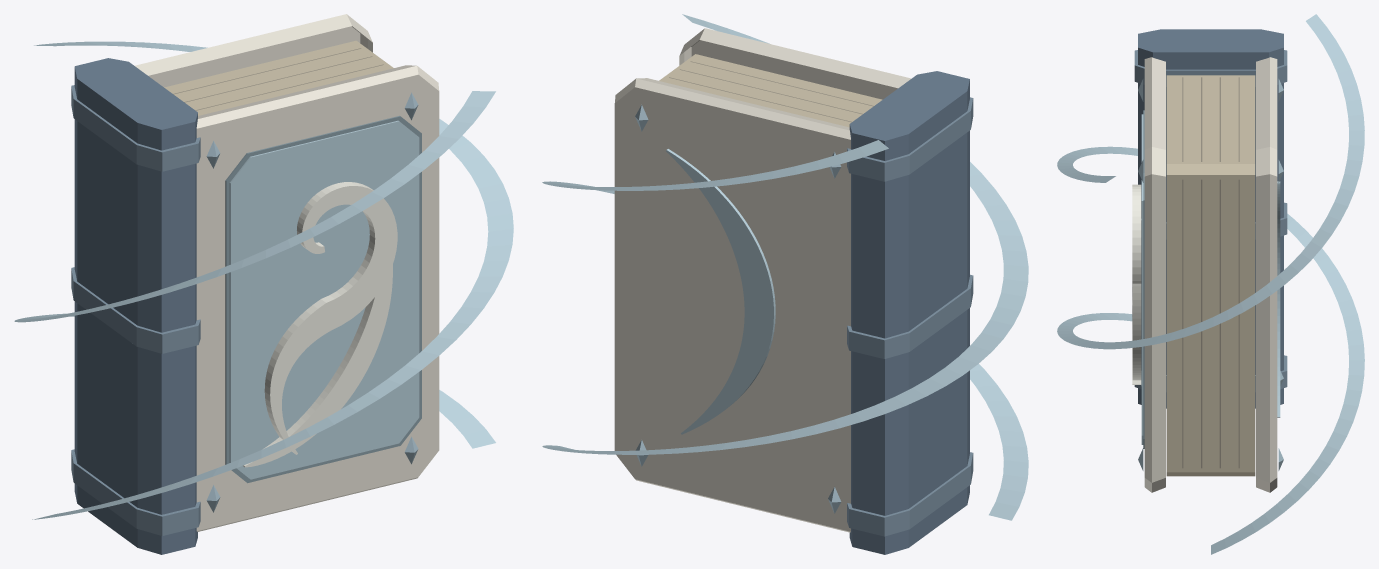
File: wind_spellbook.glb
3 renders of one model, left to right at view 1: azimuth 30°, elevation 25°; view 2: azimuth 150°, elevation 25°; view 3: azimuth 270°, elevation 25°, orthographic. The views are drawn at different scales.
Visible parts, largest first — view 1: Covers, Spine, BookWindRibbons, Emblem, Pages; view 2: Covers, Spine, BookWindRibbons, Pages; view 3: Pages, Covers, BookWindRibbons, Spine, Emblem.
Boxes of the visible parts, x1,y1,x2,y2 form: Covers: (134,14,439,531); Spine: (71,58,200,554); BookWindRibbons: (14,41,513,519); Emblem: (243,182,397,467); Pages: (164,40,393,115); Covers: (614,28,911,532); Spine: (847,71,973,554); BookWindRibbons: (542,14,1028,520); Pages: (659,54,882,127); Pages: (1166,75,1255,476); Covers: (1138,57,1283,492); BookWindRibbons: (1057,14,1364,554); Spine: (1134,29,1287,408); Emblem: (1132,184,1141,384).
Bounding box in the file's own units: 1.2 × 1.11 × 0.8221.
